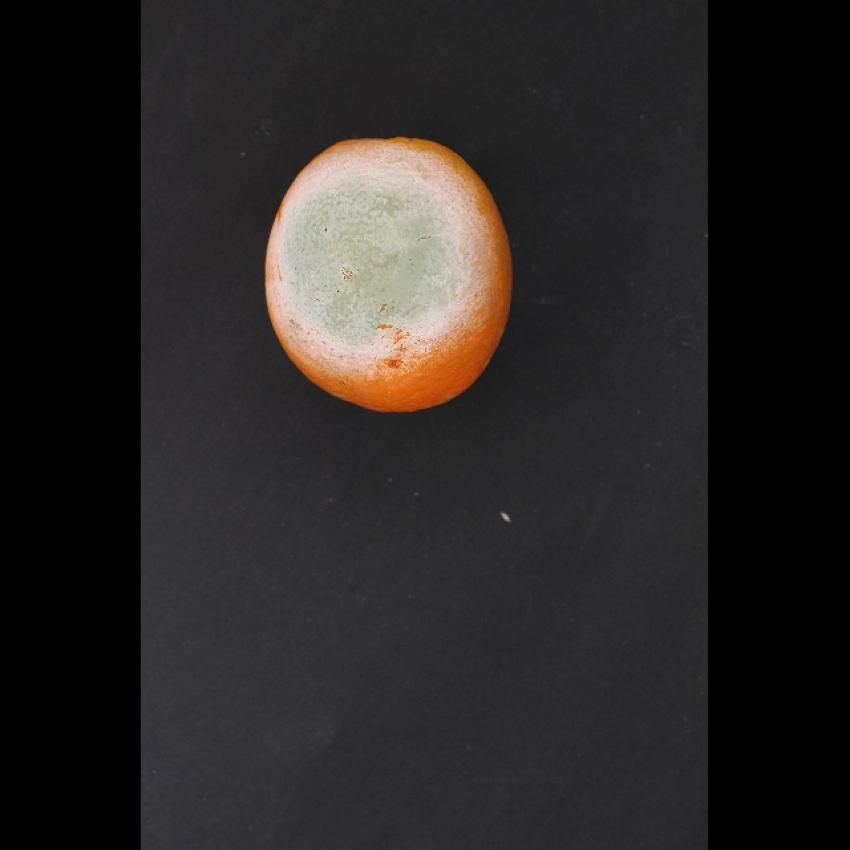Mal estado: (252, 133, 532, 414)
